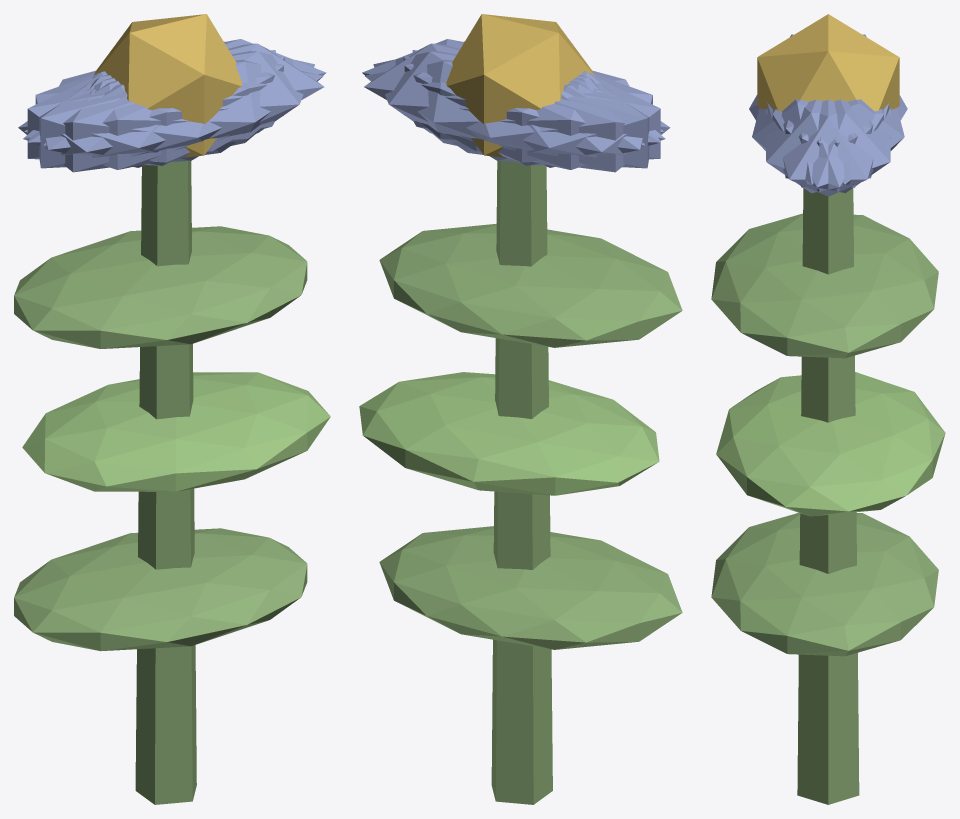
Rendered from bauhinia-variegata.glb.
The picture shows the model from 3 angles, left to right: view 1: azimuth 30°, elevation 25°; view 2: azimuth 150°, elevation 25°; view 3: azimuth 270°, elevation 25°; orthographic projection.
Parts seen in each view (by area): view 1: leaf2, leaf1, leaf0, stem, center, petal1, petal6, petal2, petal5, petal7, petal0, petal4 (+2 smaller); view 2: leaf1, leaf2, leaf0, stem, center, petal8, petal3, petal7, petal4, petal2, petal0, petal5 (+2 smaller); view 3: leaf1, leaf2, leaf0, stem, center, petal0, petal4, petal5, petal8, petal1.
Part boxes in pixels (x1,y1,x2,y2): leaf2: [14, 226, 307, 348]; leaf1: [22, 372, 330, 491]; leaf0: [14, 528, 307, 651]; stem: [135, 161, 196, 804]; center: [94, 14, 242, 157]; petal1: [23, 59, 323, 169]; petal6: [18, 73, 235, 172]; petal2: [39, 50, 275, 168]; petal5: [43, 51, 314, 162]; petal7: [27, 56, 284, 165]; petal0: [93, 43, 324, 151]; petal4: [24, 39, 326, 142]; leaf1: [359, 372, 659, 495]; leaf2: [379, 223, 682, 347]; leaf0: [379, 526, 682, 649]; stem: [491, 161, 552, 804]; center: [446, 14, 594, 157]; petal8: [365, 59, 665, 169]; petal3: [452, 73, 670, 172]; petal7: [412, 50, 649, 168]; petal4: [373, 51, 644, 162]; petal2: [403, 56, 660, 165]; petal0: [364, 43, 594, 151]; petal5: [362, 39, 663, 142]; leaf1: [716, 372, 945, 516]; leaf2: [711, 213, 938, 358]; leaf0: [711, 512, 938, 656]; stem: [797, 188, 859, 804]; center: [757, 14, 899, 111]; petal0: [767, 99, 889, 196]; petal4: [772, 99, 891, 193]; petal5: [765, 99, 883, 193]; petal8: [783, 99, 904, 184]; petal1: [752, 99, 873, 184].
Size of the model in its own units: 0.148 by 0.3604 by 0.1008.
